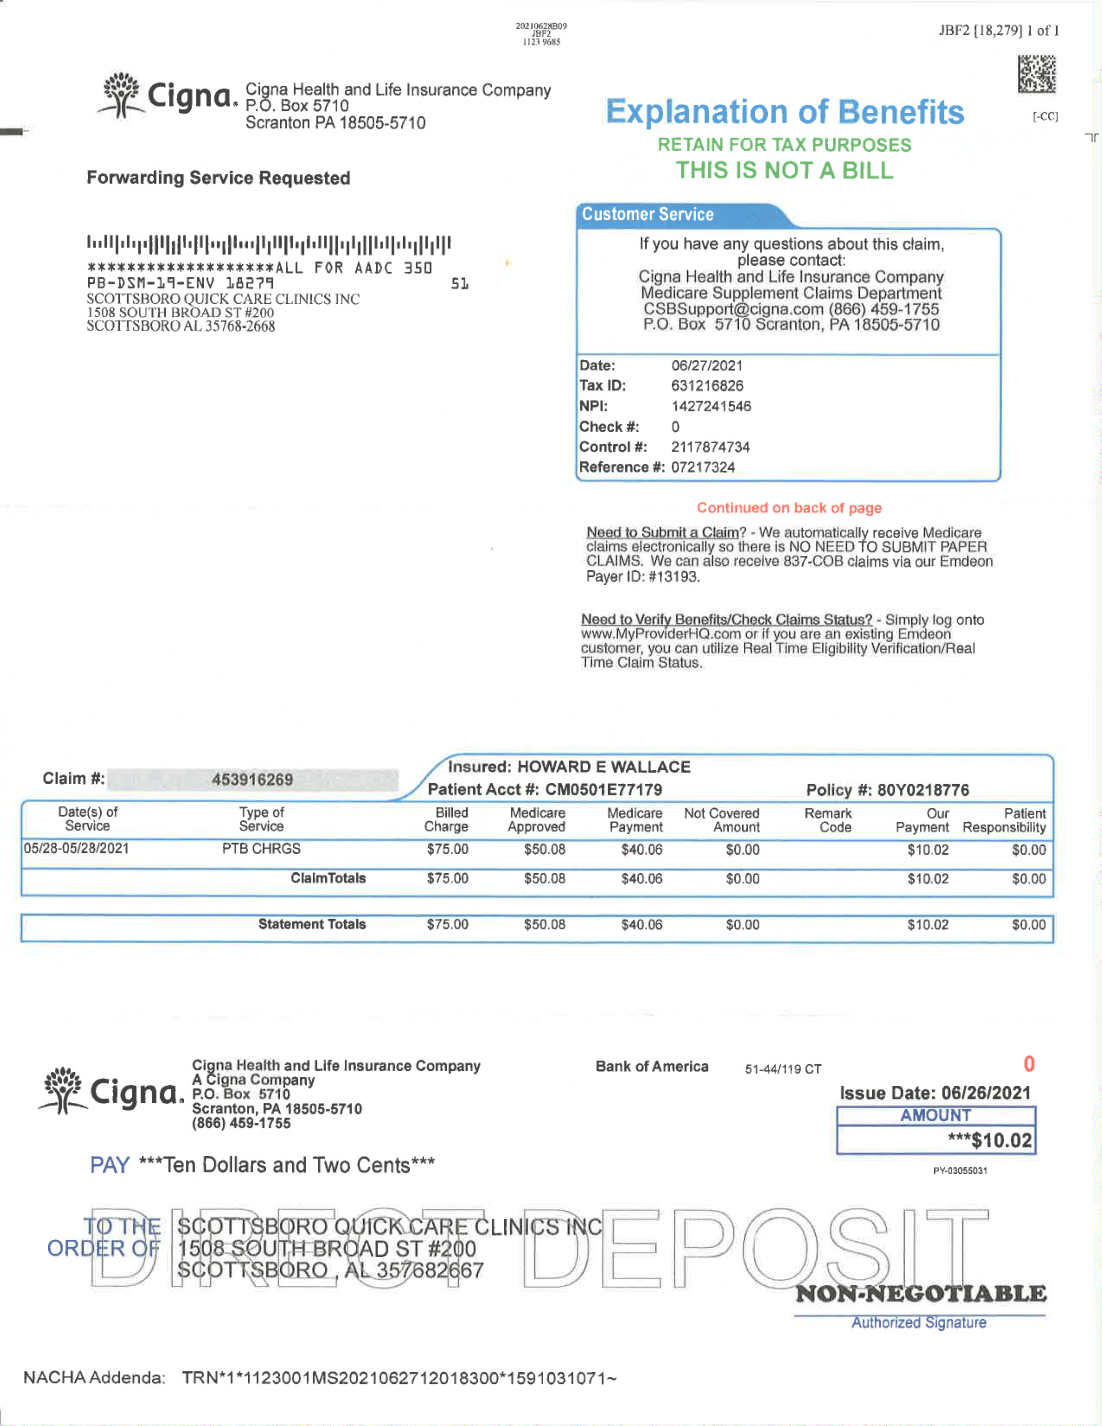data: (570, 191, 1012, 487), (32, 751, 409, 793), (425, 754, 692, 800)
table: (12, 799, 1066, 953)
